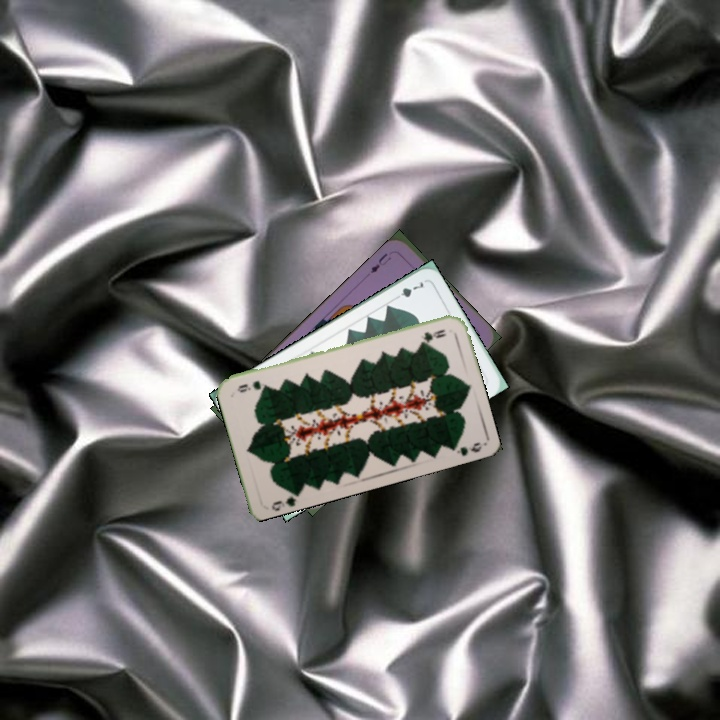EU: (366, 249, 394, 276)
G7: (390, 277, 426, 303)
G9: (267, 487, 302, 512), (417, 325, 449, 345)
